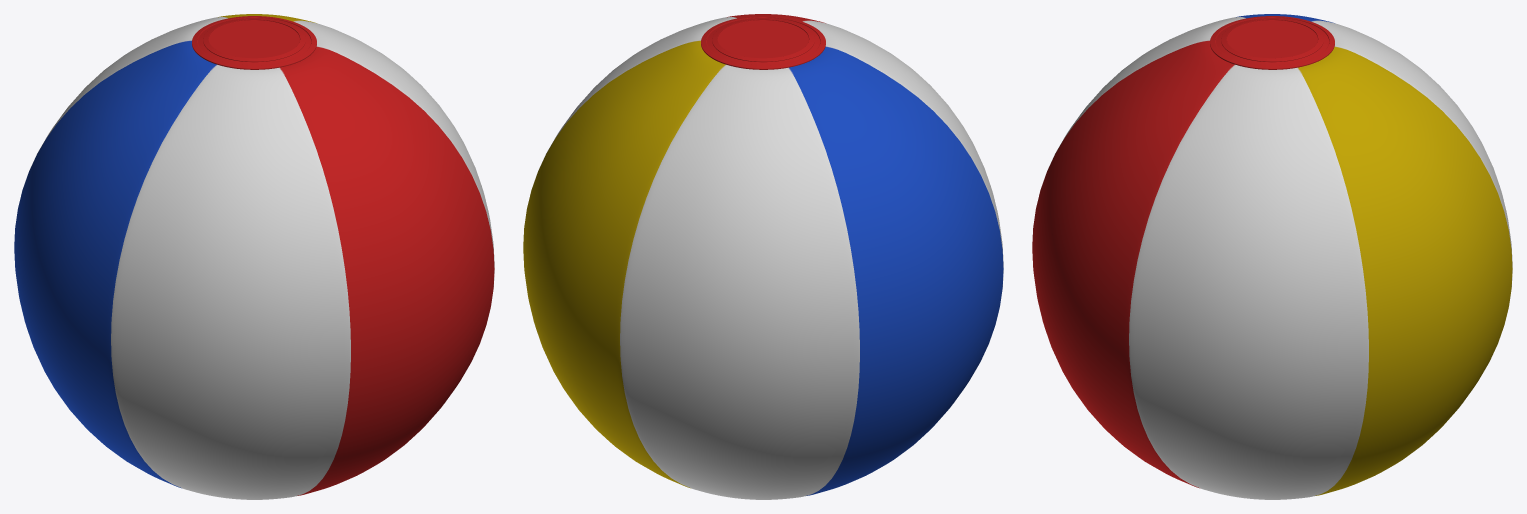
The model's file is ball.glb.
The picture shows the model from 3 angles, left to right: view 1: azimuth 30°, elevation 25°; view 2: azimuth 150°, elevation 25°; view 3: azimuth 270°, elevation 25°; orthographic projection.
Visible parts, largest first — view 1: Object_2; view 2: Object_2; view 3: Object_2.
Part boxes in pixels (left/top/right/bottom): Object_2: left=14, top=14, right=494, bottom=499; Object_2: left=523, top=14, right=1003, bottom=499; Object_2: left=1032, top=14, right=1512, bottom=499.
Size of the model in its own units: 19.25 by 19.65 by 19.44.
1 material, 1 textured.
